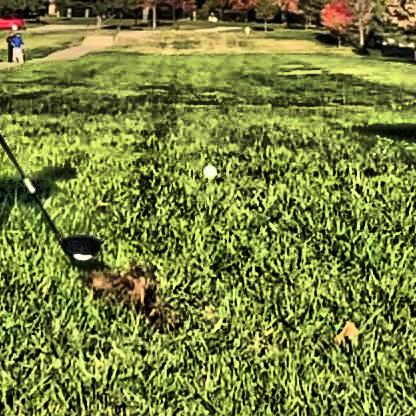golfball: (200, 162, 214, 176)
